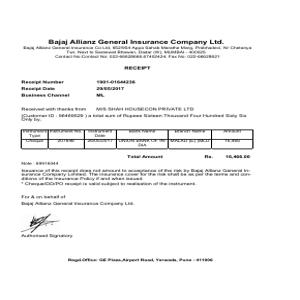table: (21, 129, 252, 147)
text: (20, 160, 254, 189), (20, 34, 257, 61), (19, 104, 250, 123), (17, 76, 141, 101), (121, 62, 154, 72)
